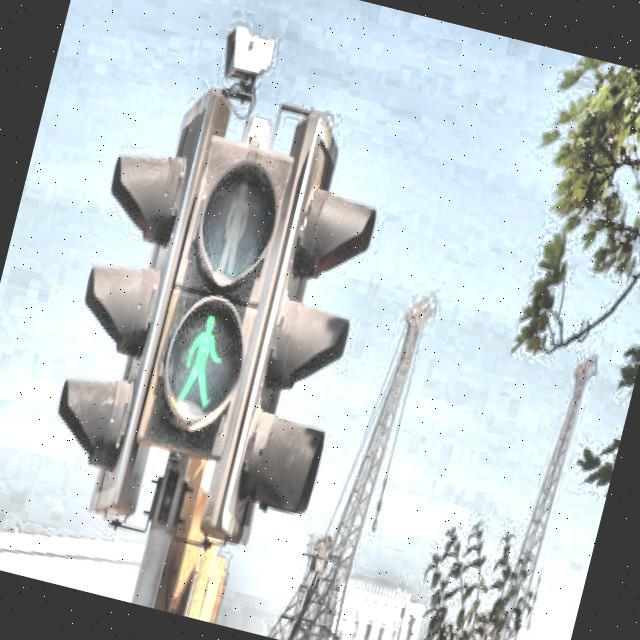green_light: (171, 307, 234, 418)
